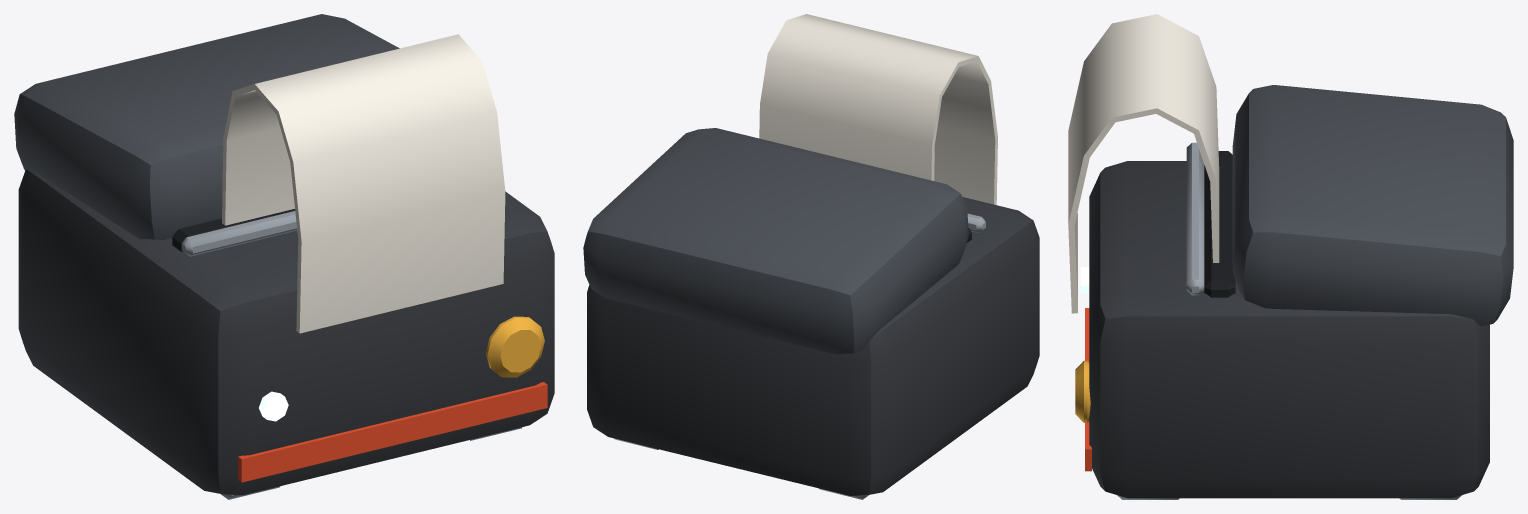
File: Kitchen_TicketPrinter.fbx
3 renders of one model, left to right at view 1: azimuth 30°, elevation 25°; view 2: azimuth 150°, elevation 25°; view 3: azimuth 270°, elevation 25°, orthographic. The views are drawn at different scales.
Parts seen in each view (by area): view 1: Body, Paper, Lid, Stripe, Button, TearBar, PaperSlot, Led; view 2: Body, Lid, Paper; view 3: Body, Lid, Paper, PaperSlot, TearBar, Button, Stripe.
Boxes of the visible parts, x1=… form: Body: x1=18, y1=169, x2=554, y2=495; Paper: x1=222, y1=34, x2=505, y2=333; Lid: x1=14, y1=14, x2=399, y2=240; Stripe: x1=238, y1=382, x2=547, y2=482; Button: x1=486, y1=316, x2=544, y2=377; TearBar: x1=181, y1=211, x2=522, y2=499; PaperSlot: x1=172, y1=209, x2=295, y2=251; Led: x1=259, y1=391, x2=288, y2=421; Body: x1=587, y1=197, x2=1039, y2=495; Lid: x1=583, y1=128, x2=968, y2=354; Paper: x1=759, y1=14, x2=997, y2=204; Body: x1=1089, y1=161, x2=1489, y2=498; Lid: x1=1232, y1=85, x2=1513, y2=326; Paper: x1=1068, y1=14, x2=1219, y2=313; PaperSlot: x1=1204, y1=151, x2=1235, y2=297; TearBar: x1=1117, y1=142, x2=1461, y2=499; Button: x1=1075, y1=360, x2=1090, y2=422; Stripe: x1=1085, y1=308, x2=1091, y2=471.
Bounding box in the file's own units: 112 × 117 × 128.
